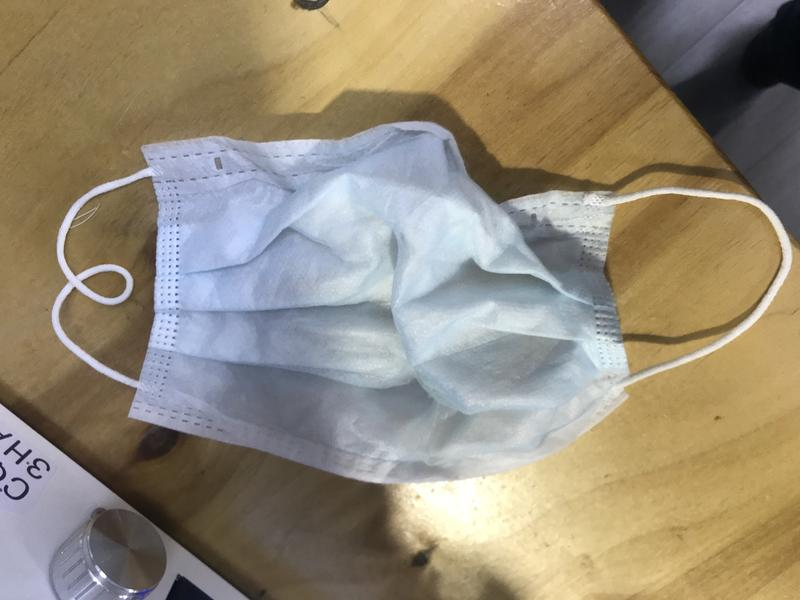medical_mask: (50, 124, 793, 484)
